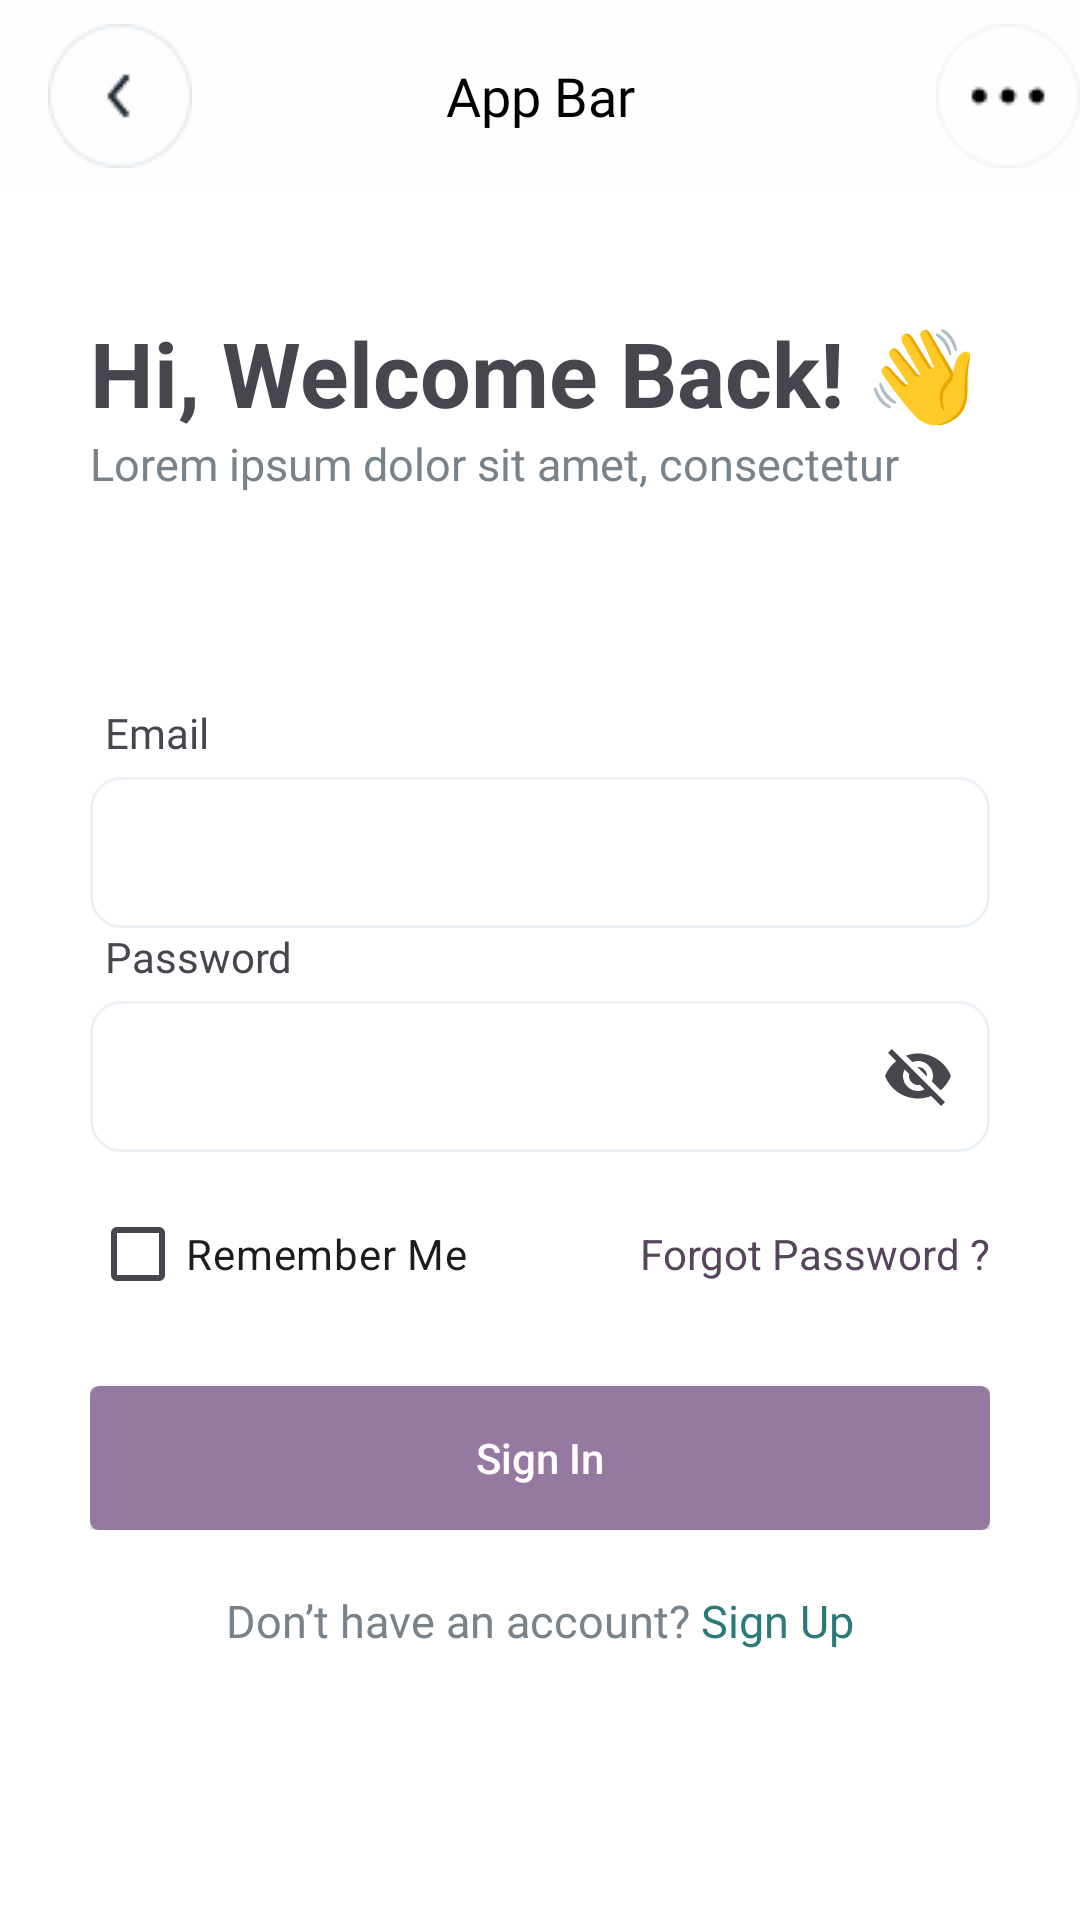

Screen size 1080w x 1920h. Icon name, then its box in pixels as bbox(x1, y1, x2, y2):
arrow back: bbox(48, 24, 192, 168)
three dot: bbox(971, 86, 1045, 106)
